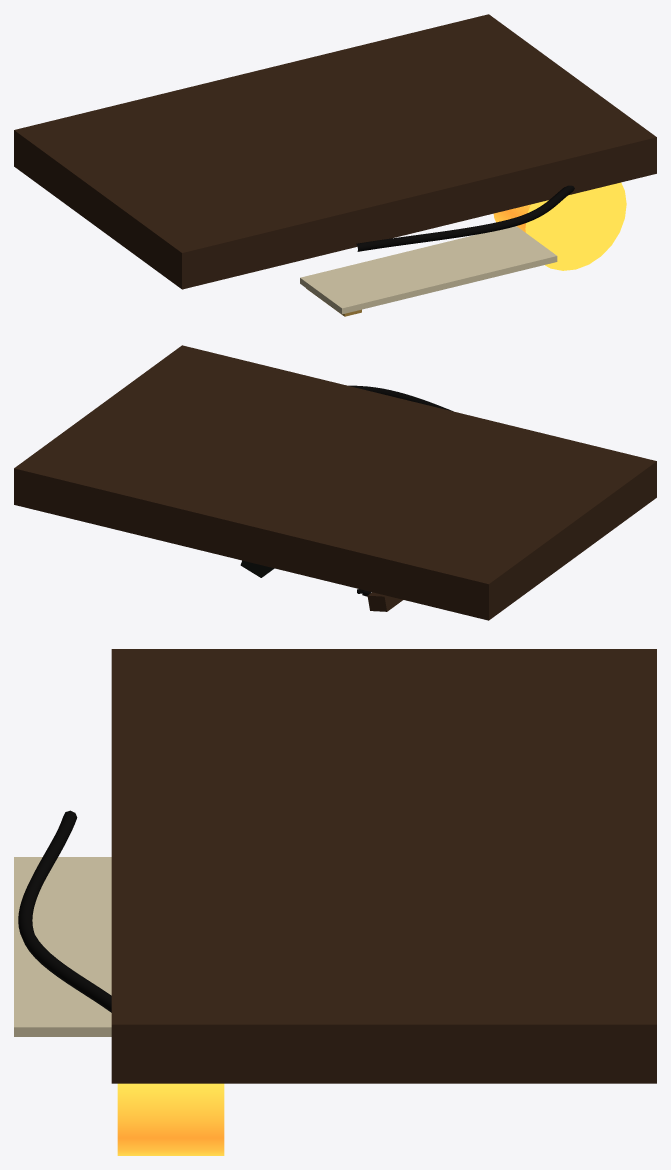
The model's file is dz_shelter_workbench_tools_premium.glb.
3 renders of one model, top to bottom at view 1: azimuth 30°, elevation 25°; view 2: azimuth 150°, elevation 25°; view 3: azimuth 270°, elevation 25°, orthographic. The views are drawn at different scales.
Parts seen in each view (by area): view 1: large pegboard back, fabrication label paper, warm work lamp shade, bench lamp wire; view 2: large pegboard back, bench lamp wire, hammer handle; view 3: large pegboard back, fabrication label paper, warm work lamp shade, bench lamp wire.
Part boxes in pixels (x1,y1,x2,y2): large pegboard back: (14, 14, 656, 289); fabrication label paper: (300, 226, 557, 314); warm work lamp shade: (493, 182, 626, 270); bench lamp wire: (356, 185, 574, 251); large pegboard back: (14, 345, 656, 620); bench lamp wire: (348, 385, 453, 411); hammer handle: (367, 592, 402, 611); large pegboard back: (111, 649, 656, 1083); fabrication label paper: (14, 857, 111, 1036); warm work lamp shade: (117, 1083, 224, 1155); bench lamp wire: (18, 810, 111, 1012).
Size of the model in its own units: 1.5 by 0.345 by 1.09.
